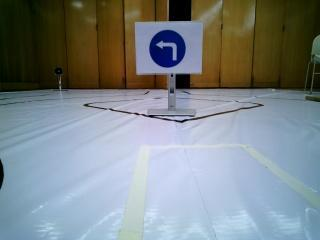left: (136, 23, 197, 74)
